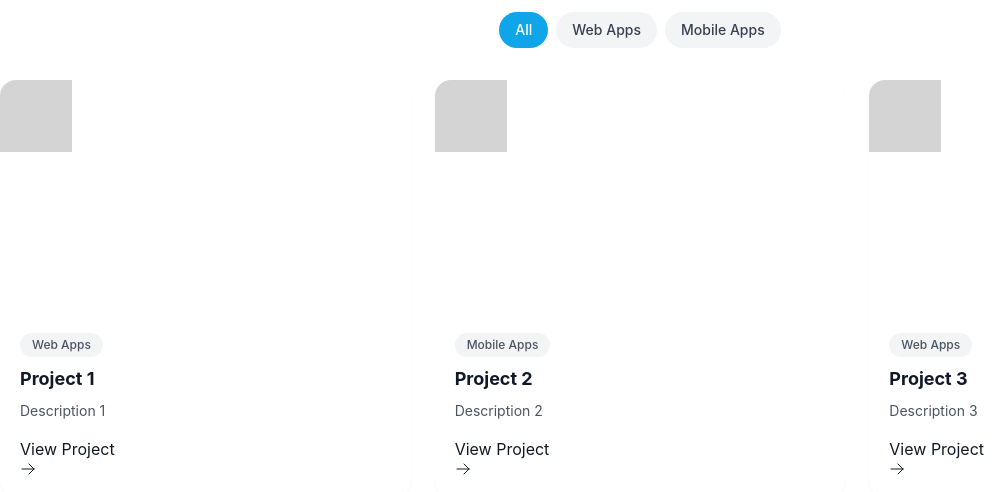
Test: ProjectGrid › Category Filtering › should show all projects when All filter is clicked
Note: First filter to Web Apps
Click the button "Web Apps": (607,30) [556,12,657,48]
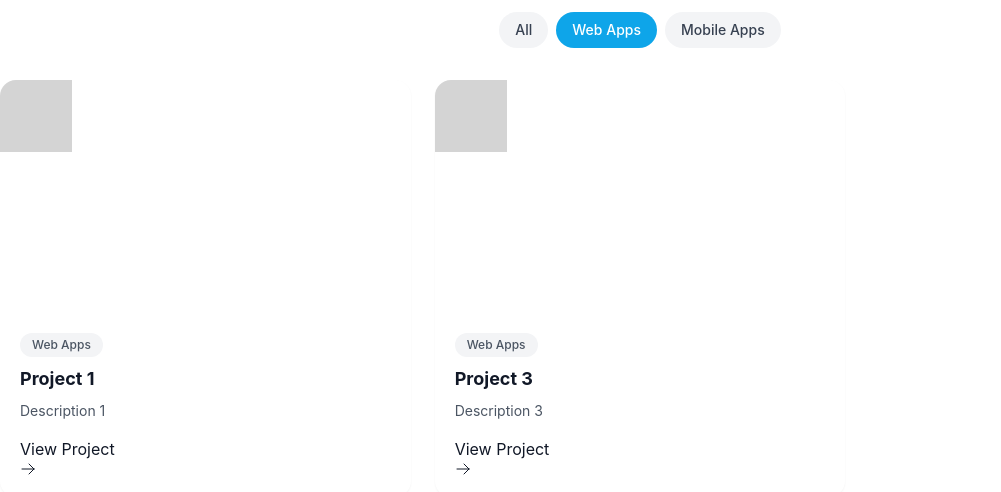
Note: Then click All
Click the button "All": (524,30) [499,12,548,48]
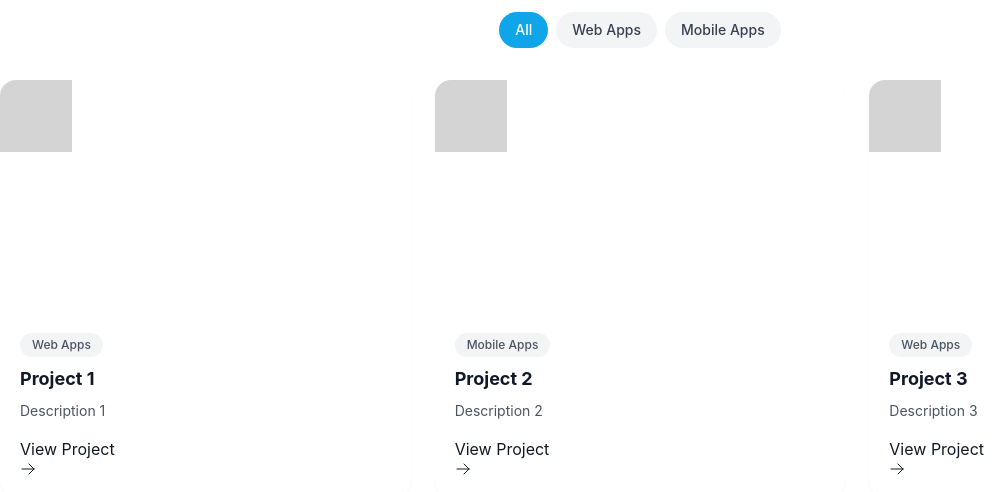
Check: the heading "Project 1" is shown, box [20,368,94,389]
Check: the heading "Project 2" is shown, box [455,368,533,389]
